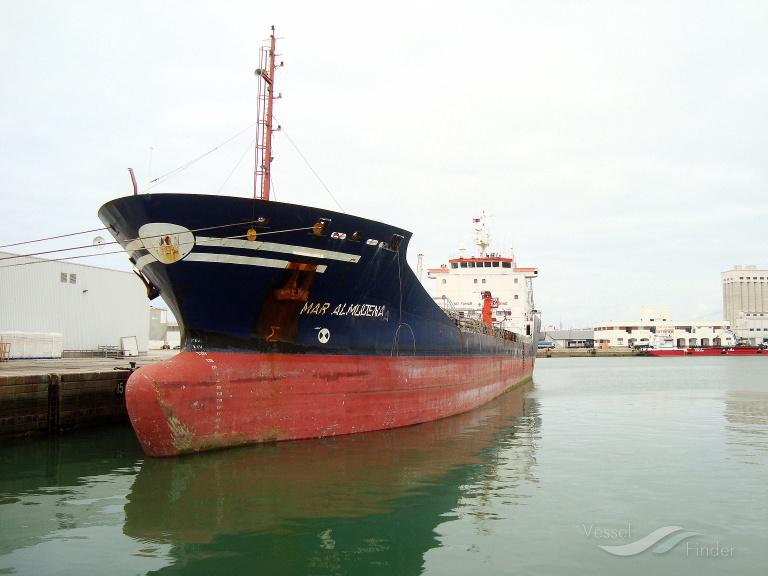OCR: (298, 290, 394, 330)
